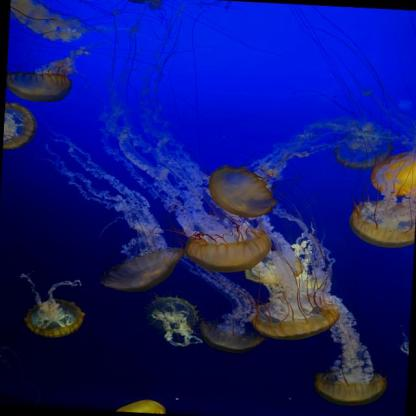jellyfish: (249, 294, 342, 343), (187, 224, 273, 276), (101, 243, 186, 295), (207, 165, 279, 220), (348, 198, 416, 251), (313, 367, 387, 408), (23, 297, 85, 339), (199, 320, 267, 355), (370, 149, 416, 200), (6, 70, 73, 104), (144, 296, 198, 334), (334, 139, 393, 173), (2, 102, 38, 154), (114, 398, 167, 414), (112, 0, 170, 7)
